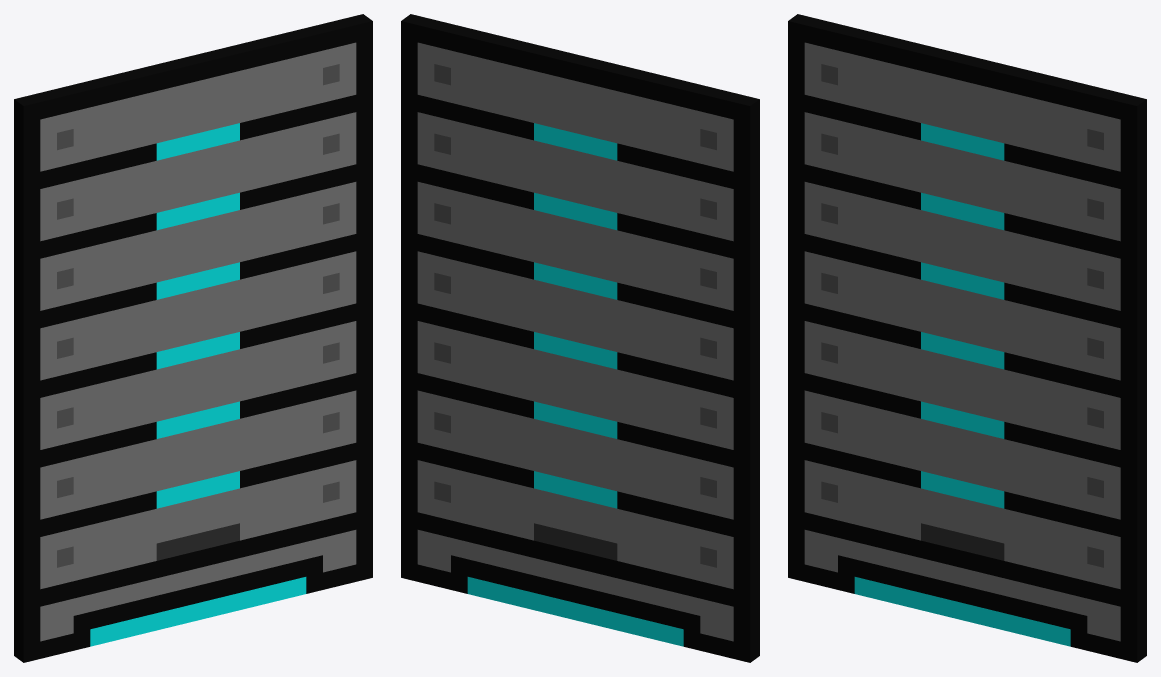
The model's file is puerta.obj.
The picture shows the model from 3 angles, left to right: view 1: azimuth 30°, elevation 25°; view 2: azimuth 150°, elevation 25°; view 3: azimuth 330°, elevation 25°; orthographic projection.
Parts seen in each view (by area): view 1: mesh; view 2: mesh; view 3: mesh.
Part boxes in pixels (x1,y1,x2,y2): mesh: [14, 14, 372, 662]; mesh: [401, 14, 759, 662]; mesh: [788, 14, 1146, 662].
Size of the model in its own units: 2.1 by 3.2 by 0.1.
